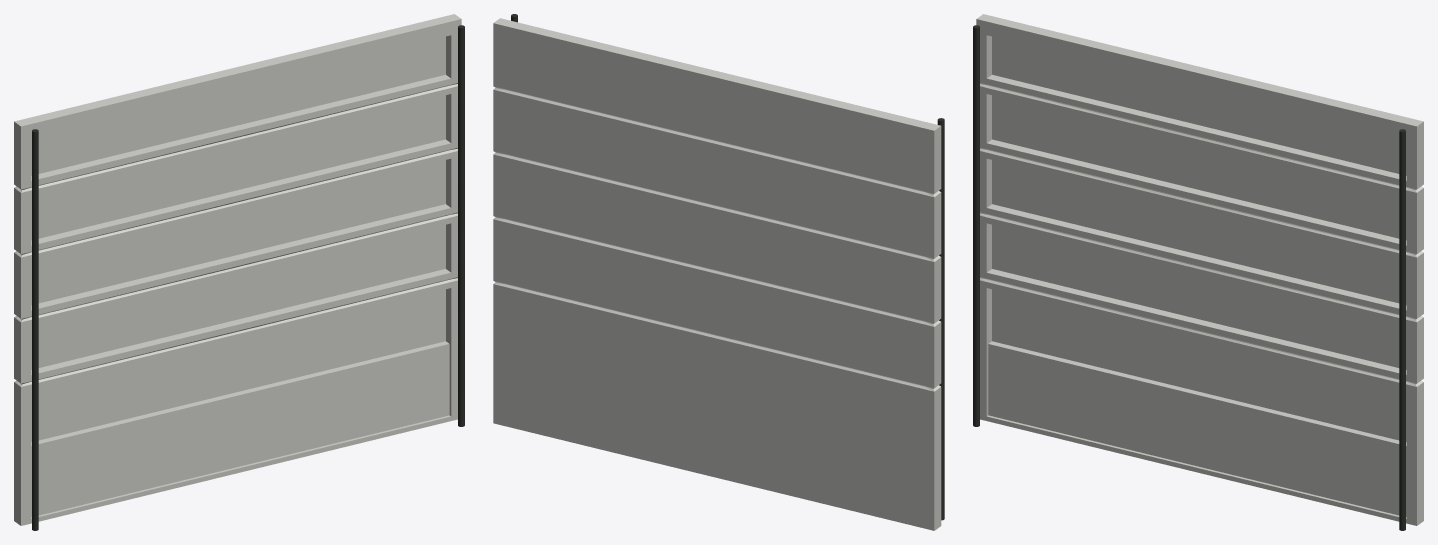
The model's file is SM_garage_door.fbx.
3 renders of one model, left to right at view 1: azimuth 30°, elevation 25°; view 2: azimuth 150°, elevation 25°; view 3: azimuth 330°, elevation 25°, orthographic.
Visible parts, largest first — view 1: garage_door; view 2: garage_door; view 3: garage_door.
Boxes of the visible parts, left/top/right/bottom form: garage_door: left=14, top=14, right=464, bottom=530; garage_door: left=493, top=14, right=944, bottom=530; garage_door: left=973, top=14, right=1423, bottom=530.
Bounding box in the file's own units: 348 × 302 × 21.53.
